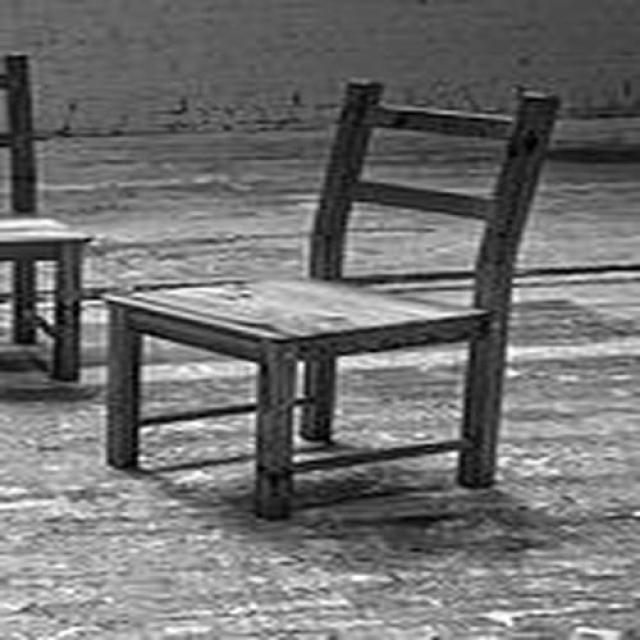chair: (102, 81, 559, 522)
